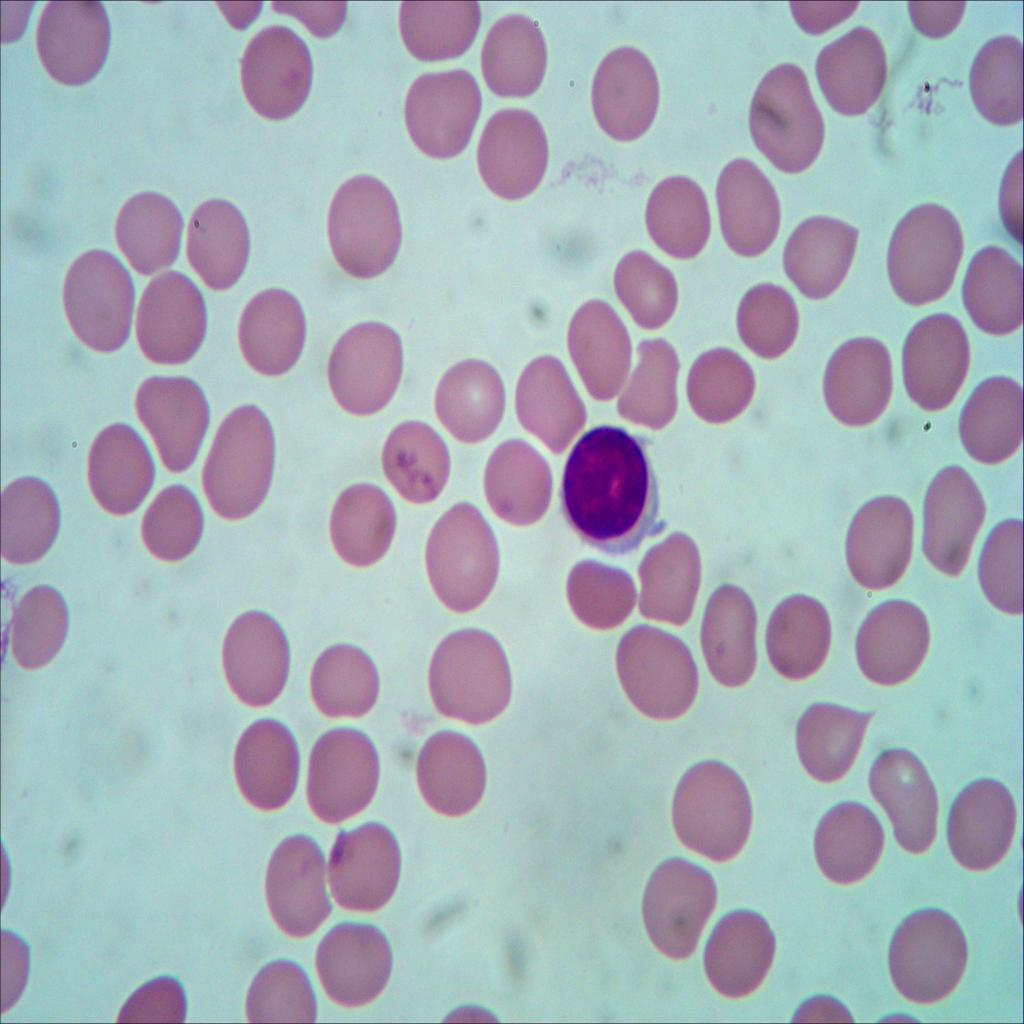Eritrosit: (610, 623, 707, 737), (420, 487, 502, 618), (230, 22, 321, 140), (862, 731, 946, 855), (668, 750, 762, 859), (817, 316, 900, 438), (937, 764, 1024, 880), (200, 398, 282, 520), (687, 902, 782, 1007), (882, 901, 971, 1010), (23, 0, 121, 98), (330, 168, 409, 289), (254, 830, 340, 940), (919, 456, 995, 580), (318, 820, 416, 916), (883, 190, 957, 317), (424, 622, 511, 730), (215, 594, 297, 706), (326, 320, 414, 424), (235, 278, 315, 392), (834, 479, 919, 585), (692, 574, 764, 699), (749, 59, 829, 171), (588, 41, 667, 154), (58, 249, 140, 357), (298, 728, 390, 823), (316, 916, 403, 1016), (473, 98, 555, 204), (646, 853, 722, 966), (132, 370, 216, 472), (846, 594, 934, 690), (632, 525, 704, 642), (787, 698, 886, 783), (120, 478, 211, 570), (417, 730, 502, 828), (133, 264, 210, 372), (776, 203, 863, 298), (81, 420, 159, 523), (371, 412, 461, 501), (475, 438, 555, 538), (711, 154, 787, 258), (227, 709, 305, 810), (105, 181, 183, 281), (0, 462, 71, 570), (896, 304, 968, 410), (402, 70, 481, 165), (951, 232, 1024, 334), (322, 482, 404, 572), (556, 542, 638, 632), (565, 301, 637, 403), (180, 198, 258, 292), (515, 356, 588, 456), (482, 10, 554, 110), (434, 352, 510, 446), (607, 241, 686, 331), (644, 170, 717, 266), (4, 574, 74, 674), (950, 368, 1024, 462), (760, 584, 828, 686), (309, 631, 385, 722), (818, 27, 893, 119), (684, 339, 763, 425), (616, 336, 684, 433), (732, 276, 806, 363), (812, 801, 888, 883), (237, 953, 322, 1024), (966, 34, 1024, 132), (397, 0, 484, 65)
Limfosit: (553, 416, 675, 568)
